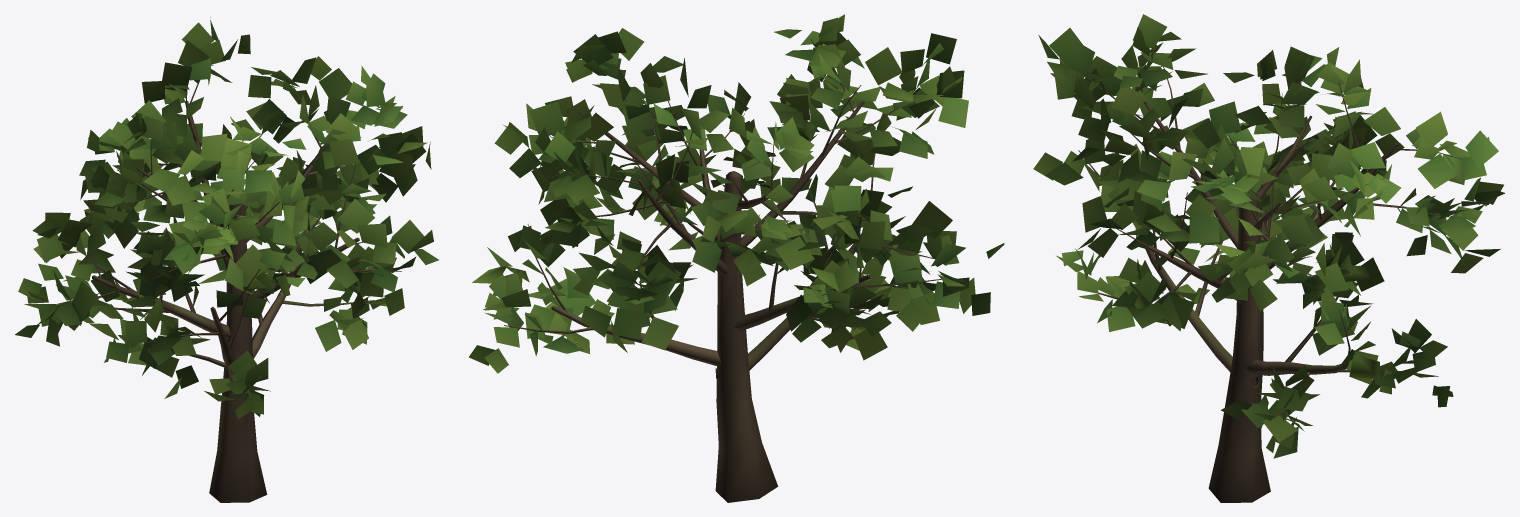
Rendered from oak-a.lod1.glb.
The picture shows the model from 3 angles, left to right: view 1: azimuth 30°, elevation 25°; view 2: azimuth 150°, elevation 25°; view 3: azimuth 270°, elevation 25°; orthographic projection. The views are drawn at different scales.
Size of the model in its own units: 9.69 by 8.91 by 8.44.
